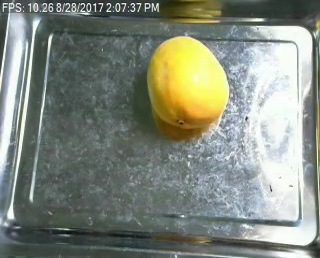Mango: (140, 33, 237, 128)
